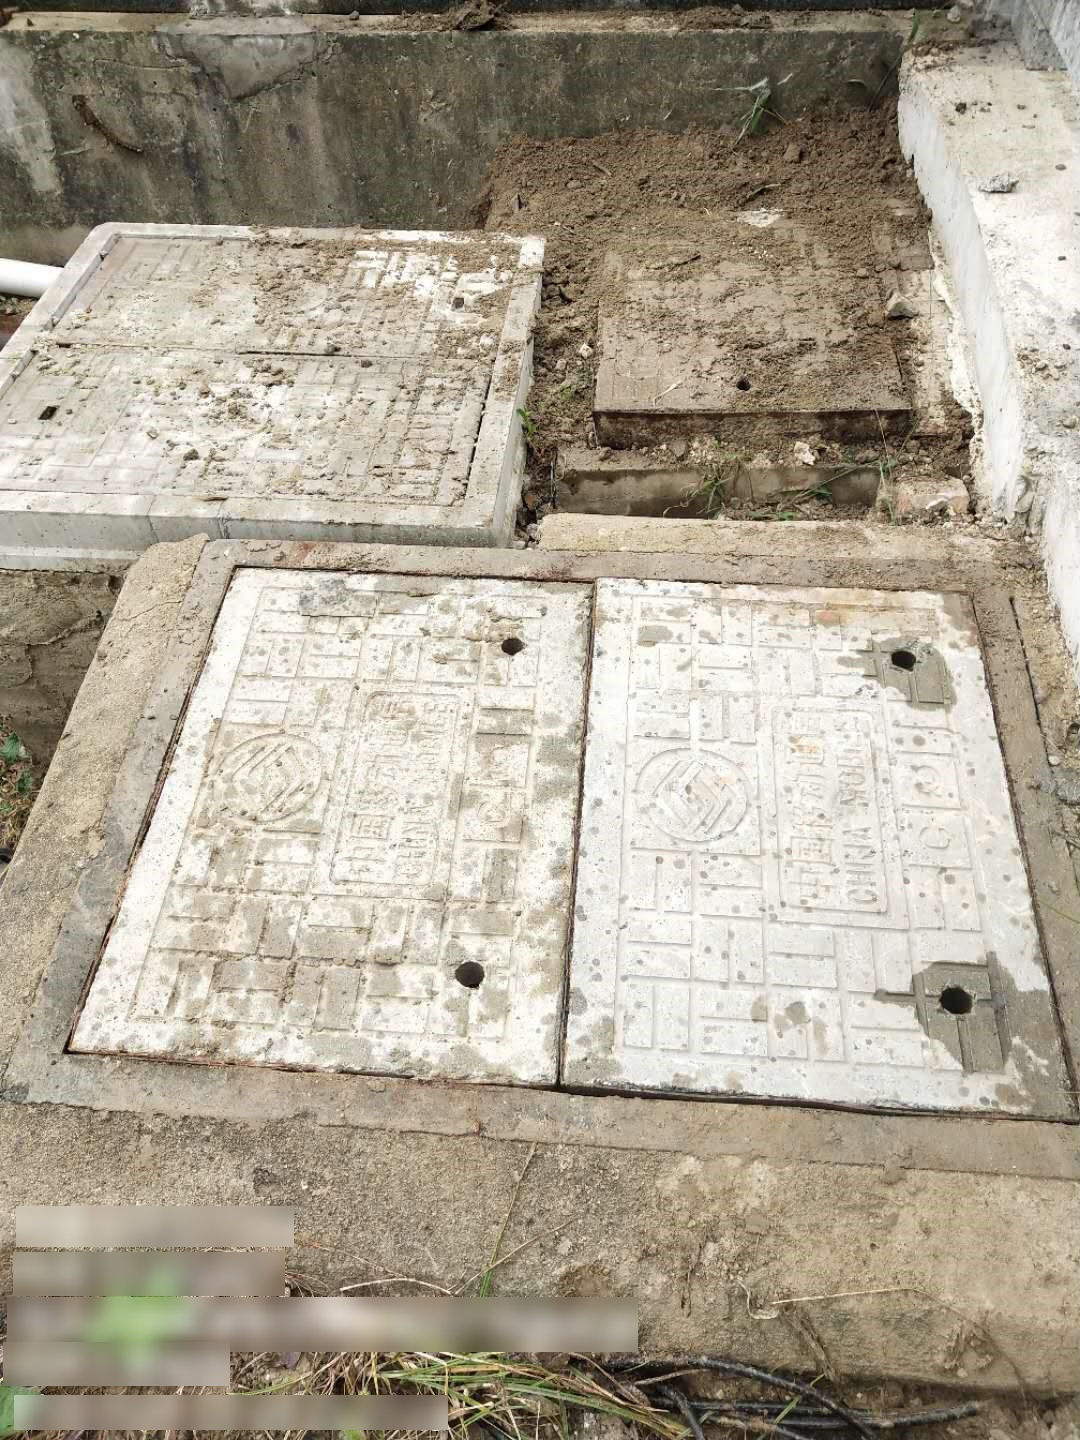good: (2, 536, 1080, 1180), (1, 221, 547, 547)
